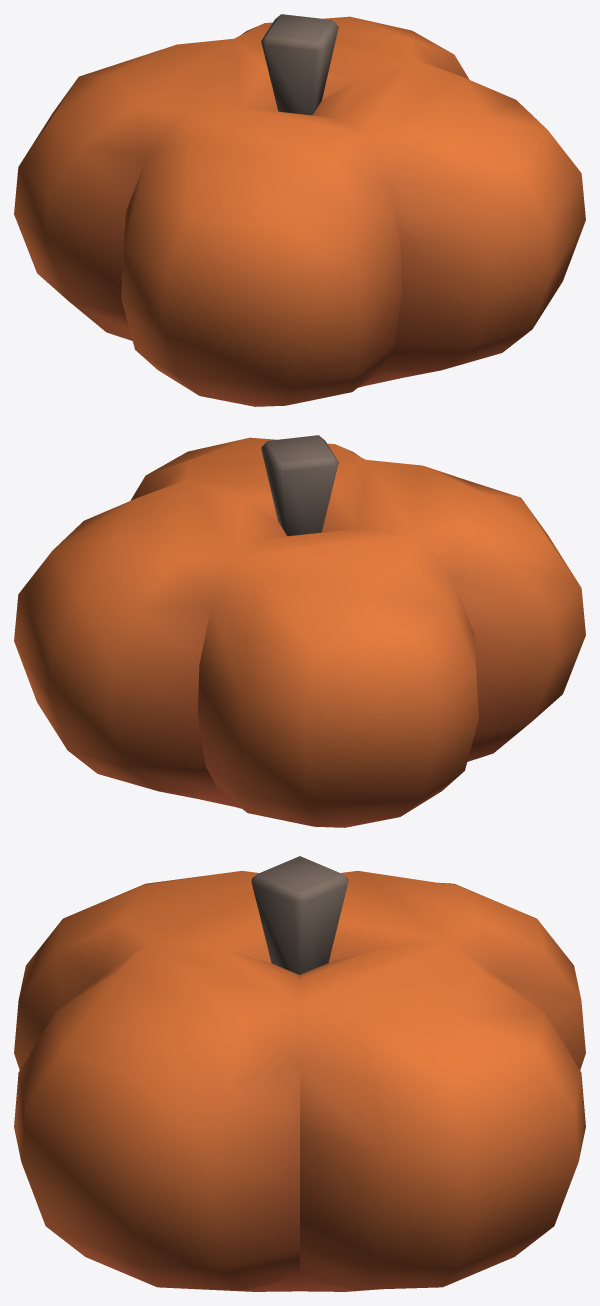
Rendered from pumpkin_orange.glb.
The picture shows the model from 3 angles, top to bottom: view 1: azimuth 30°, elevation 25°; view 2: azimuth 150°, elevation 25°; view 3: azimuth 270°, elevation 25°; orthographic projection. The views are drawn at different scales.
Visible parts, largest first — view 1: pumpkin_orange; view 2: pumpkin_orange; view 3: pumpkin_orange.
Boxes of the visible parts, <box> form: pumpkin_orange: <box>14,14,585,406</box>; pumpkin_orange: <box>14,435,585,827</box>; pumpkin_orange: <box>14,856,585,1291</box>.
Bounding box in the file's own units: 1 × 0.7 × 1.
Materials: 1 (1 with a texture image).
